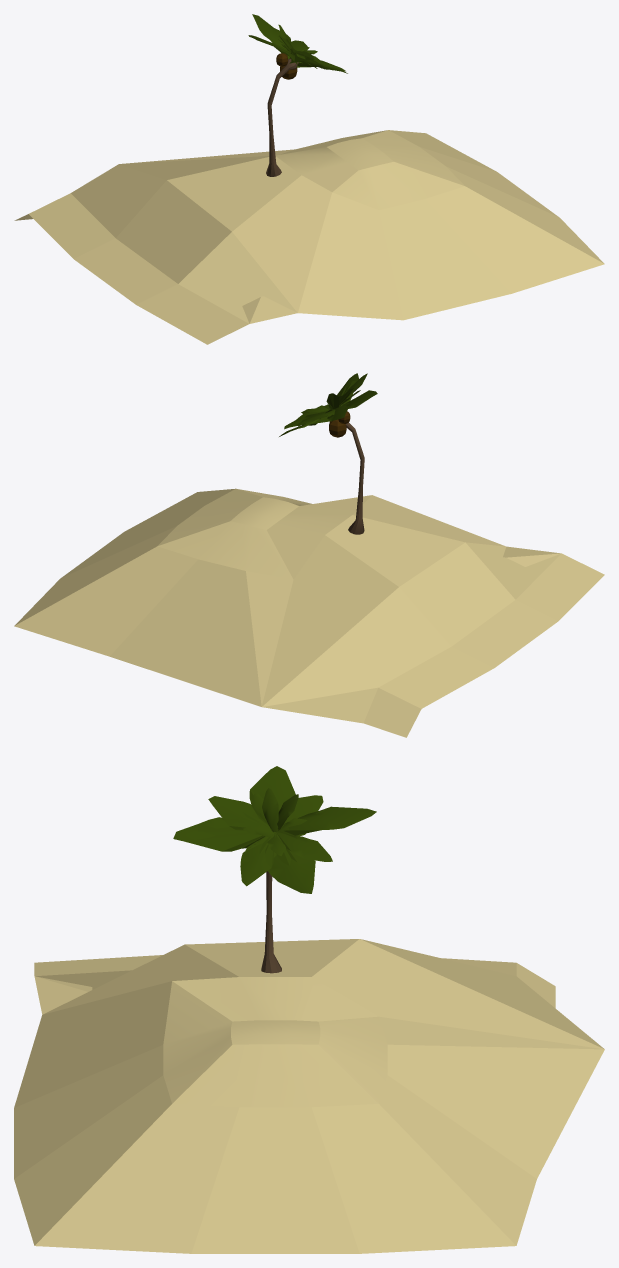
The model's file is island.fbx.
3 views of the same model, one above another, from view 1: azimuth 30°, elevation 25°; view 2: azimuth 150°, elevation 25°; view 3: azimuth 270°, elevation 25° (orthographic). The views are drawn at different scales.
Parts seen in each view (by area): view 1: group5_pasted__pPlane3; view 2: group5_pasted__pPlane3; view 3: group5_pasted__pPlane3.
Part boxes in pixels (x1,y1,x2,y2): group5_pasted__pPlane3: (14,14,604,344); group5_pasted__pPlane3: (14,373,604,737); group5_pasted__pPlane3: (14,766,604,1253).
Size of the model in its own units: 27.96 by 14.35 by 25.05.
